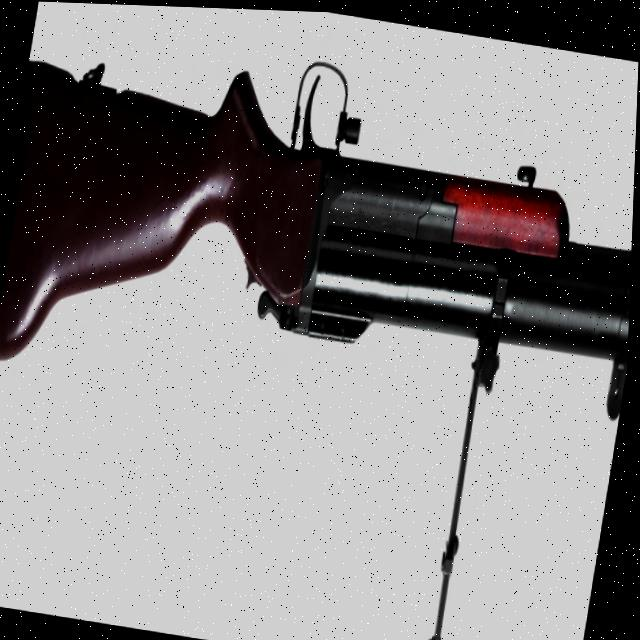rocket: (0, 8, 640, 640)
